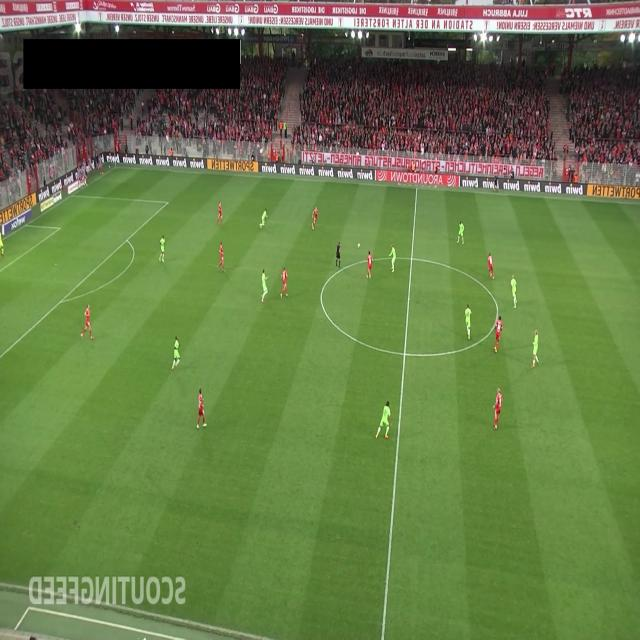ball: (357, 242, 361, 250)
goalkeeper: (0, 233, 5, 257)
player: (374, 400, 392, 440), (80, 304, 94, 340), (196, 388, 207, 429), (493, 388, 503, 430), (530, 329, 539, 368), (494, 314, 503, 352), (464, 303, 472, 340), (261, 268, 269, 304), (510, 274, 518, 310), (172, 336, 180, 370), (217, 241, 225, 273), (280, 266, 288, 298), (388, 242, 396, 272), (456, 221, 465, 244), (216, 200, 223, 225), (367, 250, 373, 279), (159, 234, 165, 263), (260, 208, 268, 228), (488, 253, 494, 279), (312, 206, 318, 230)
referee: (492, 170, 499, 195), (336, 242, 341, 267)
